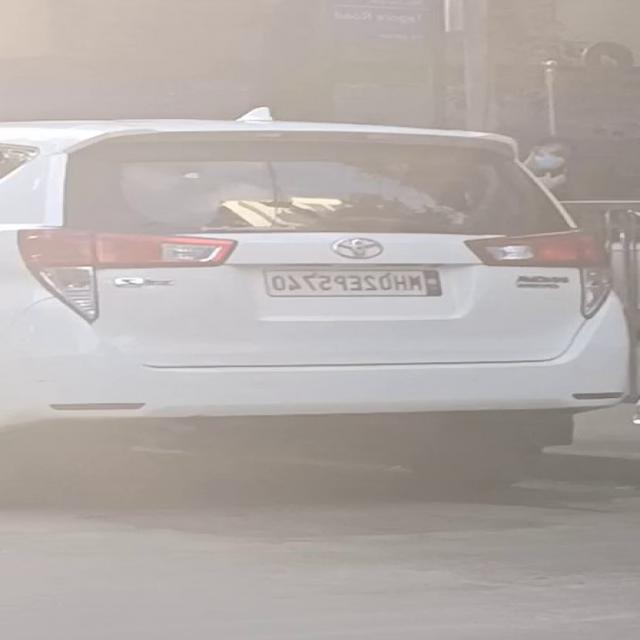license_plate: (252, 264, 452, 302)
